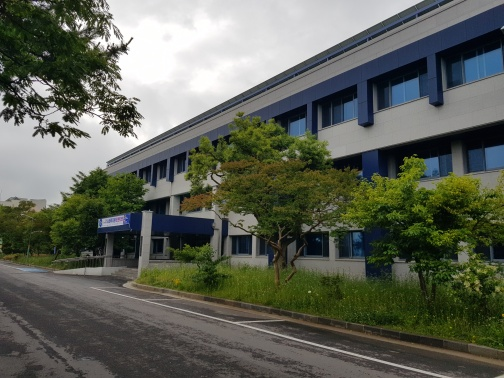College of Social Sciences: (82, 32, 503, 325), (298, 46, 449, 136), (88, 205, 216, 292)
